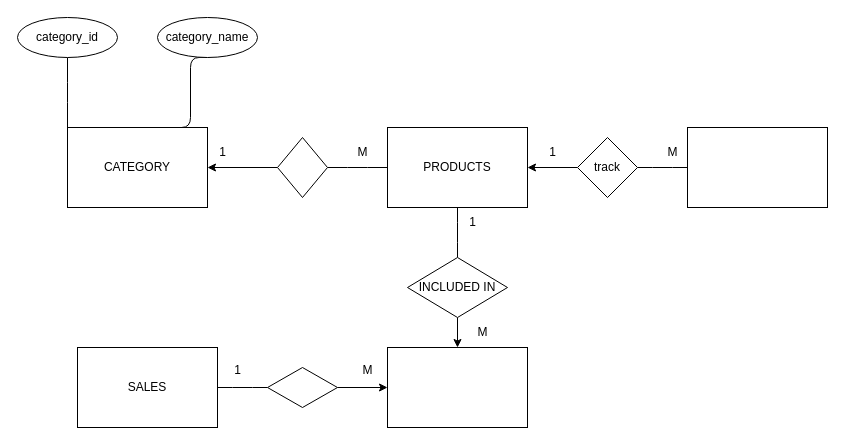
The diagram is 845 pixels wide and 445 high, and some of its shapes have lost their labels. The shapes that lost their labels are listed below. From the top down, each one's box as (x1, y1, x2, y2) in pixels, then its label:
(276, 136, 328, 198): has
(686, 126, 828, 208): STOCK-UDJUSTMENT
(266, 366, 338, 408): CONTAIN
(386, 346, 528, 428): SALE_ITEM
